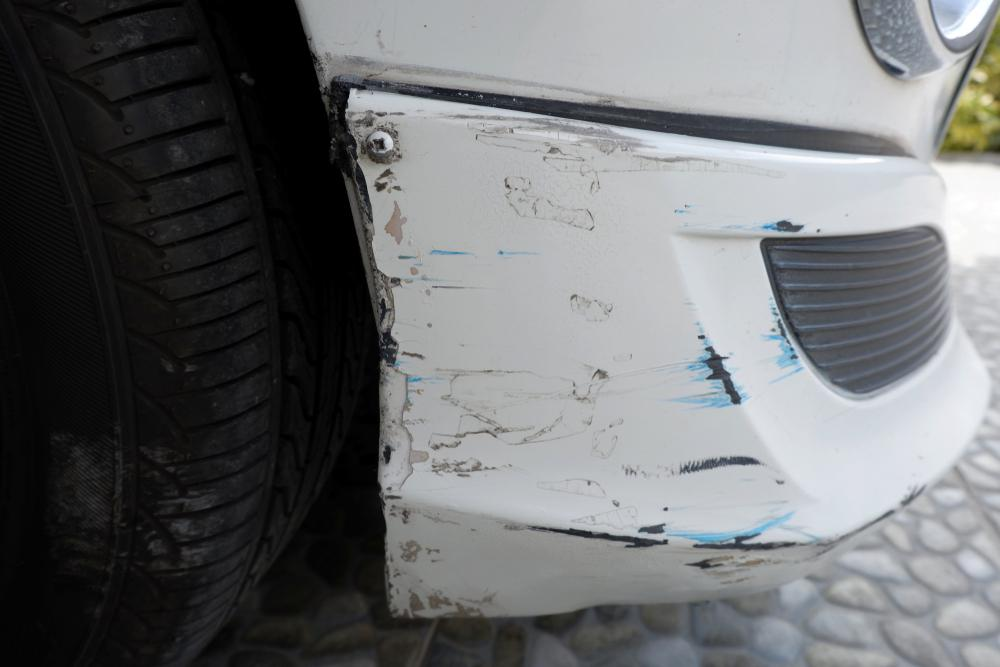scratch: (338, 90, 925, 617)
